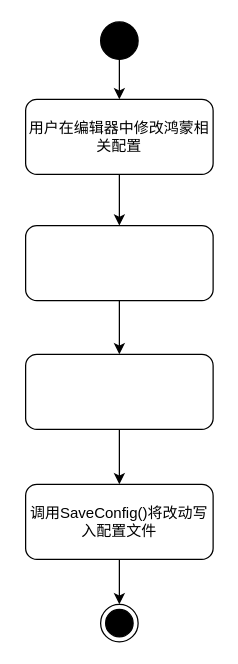
Image size: 238x664. Some labels were removed from this diagram. The box of each missing label's shape, as (x1, y1, x2, y2) in pixels:
触发属性变更事件（FPropertyChangedEvent）: (24, 224, 213, 301)
配置类调用PostEditChangeProperty(): (24, 353, 213, 429)
